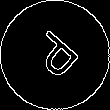P_SE: (24, 25, 86, 85)
